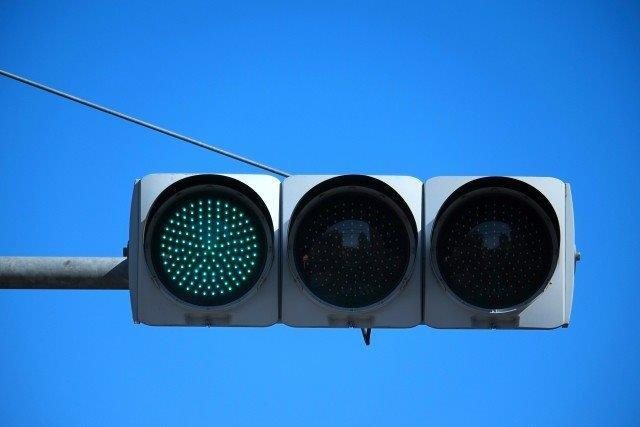cars: (136, 171, 572, 331)
